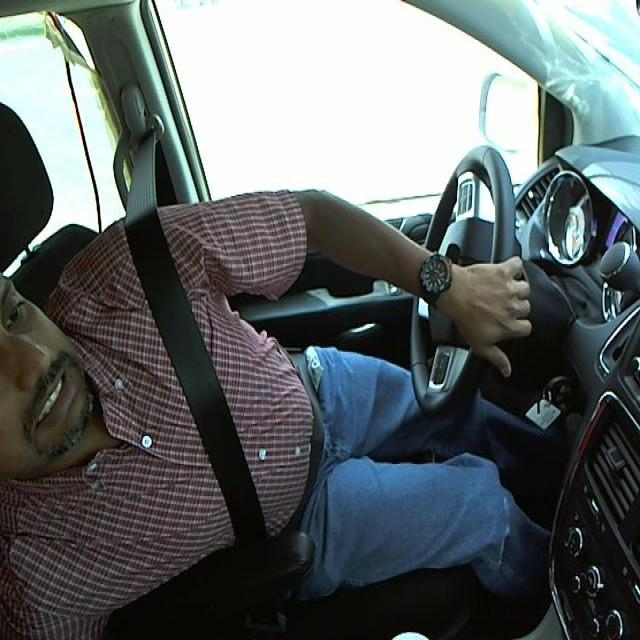seatbelt: (141, 261, 302, 572)
